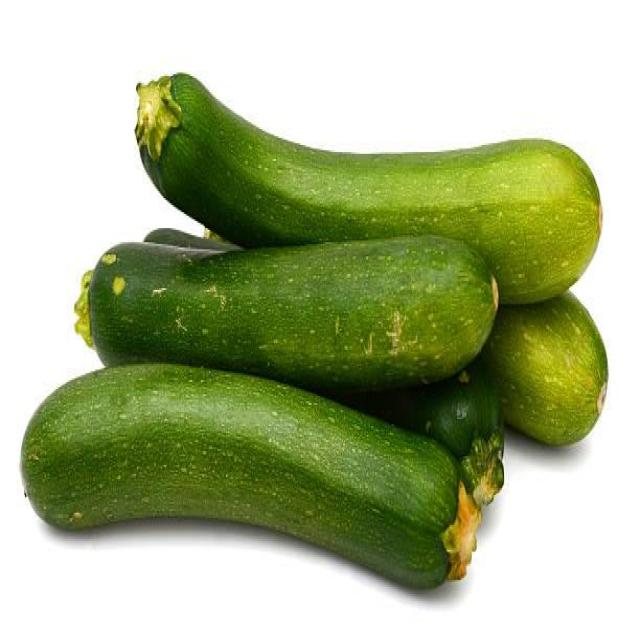Courgette: (135, 74, 601, 302), (22, 364, 458, 587), (91, 239, 497, 389)
